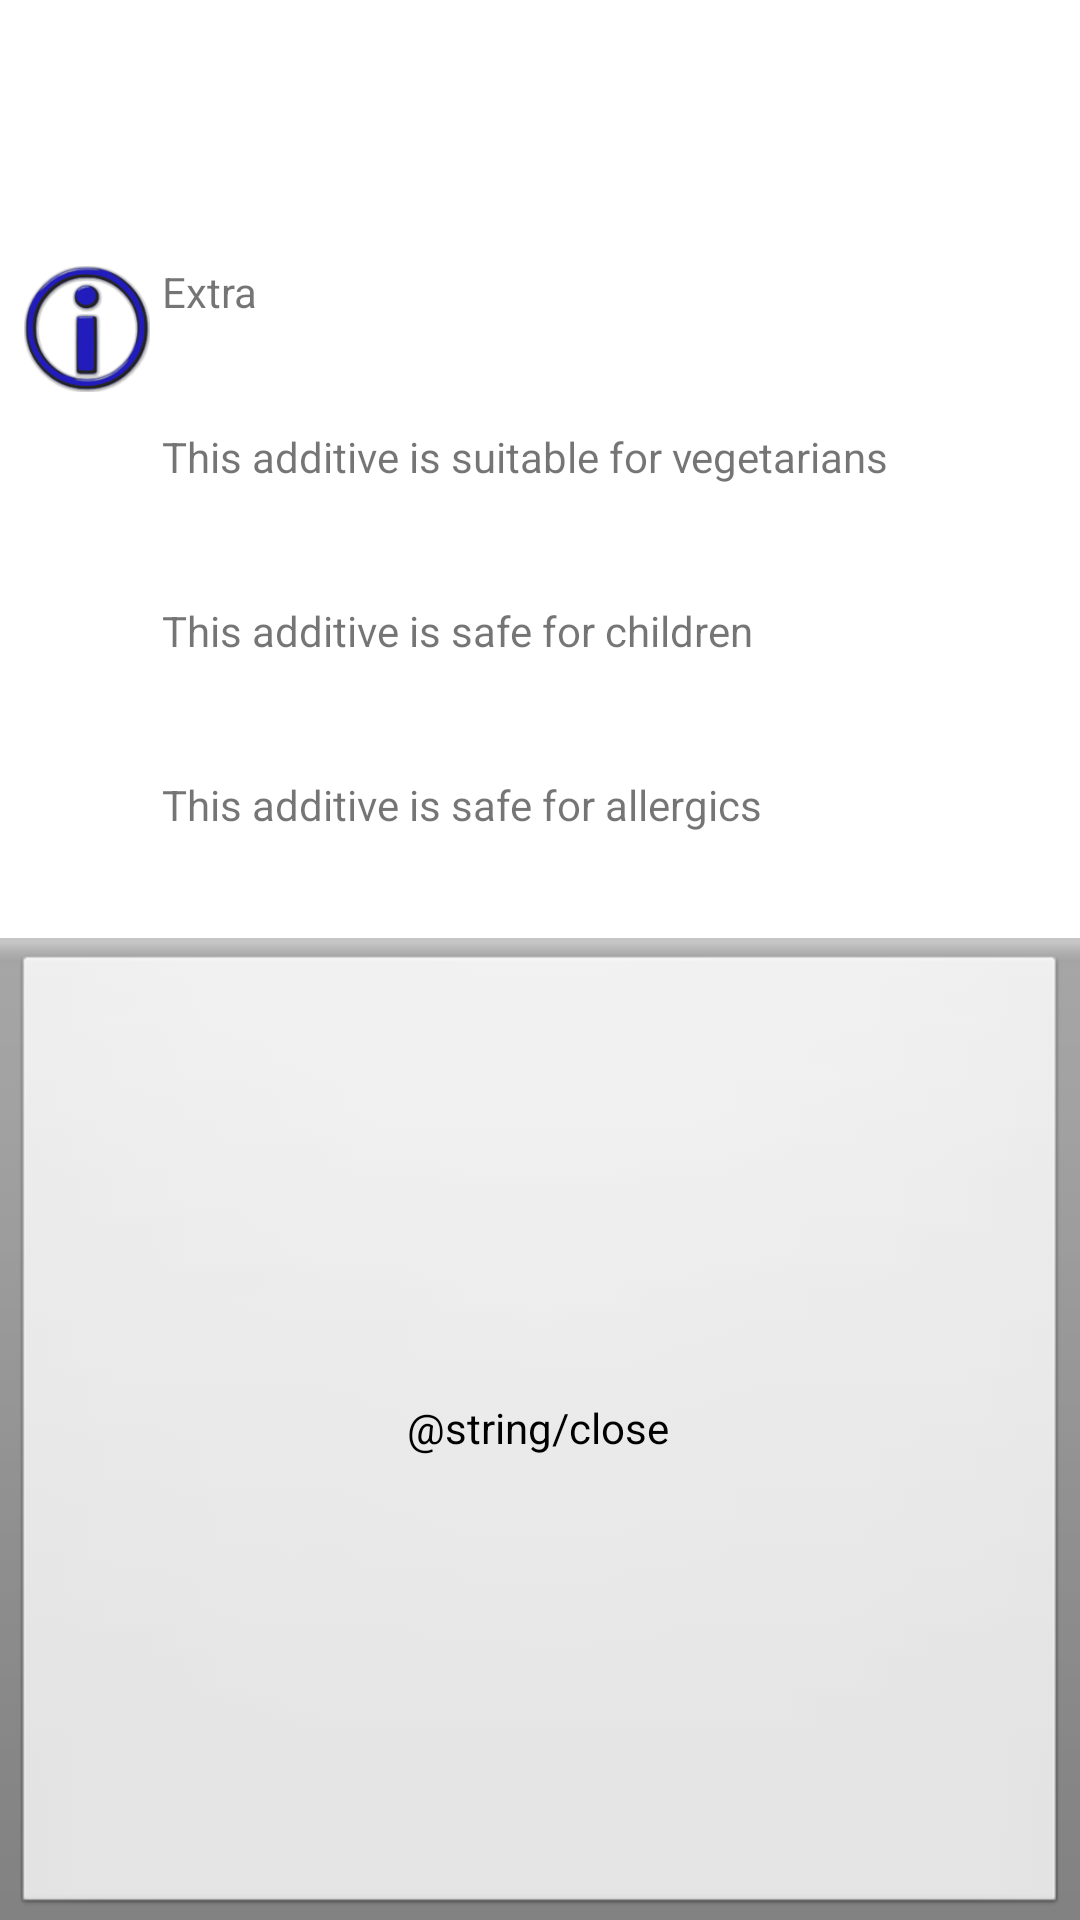

Icons on this 1080px×1920px Android screen, each with its box as (x1,y1,x2,y2):
info: (24,266,150,392)
